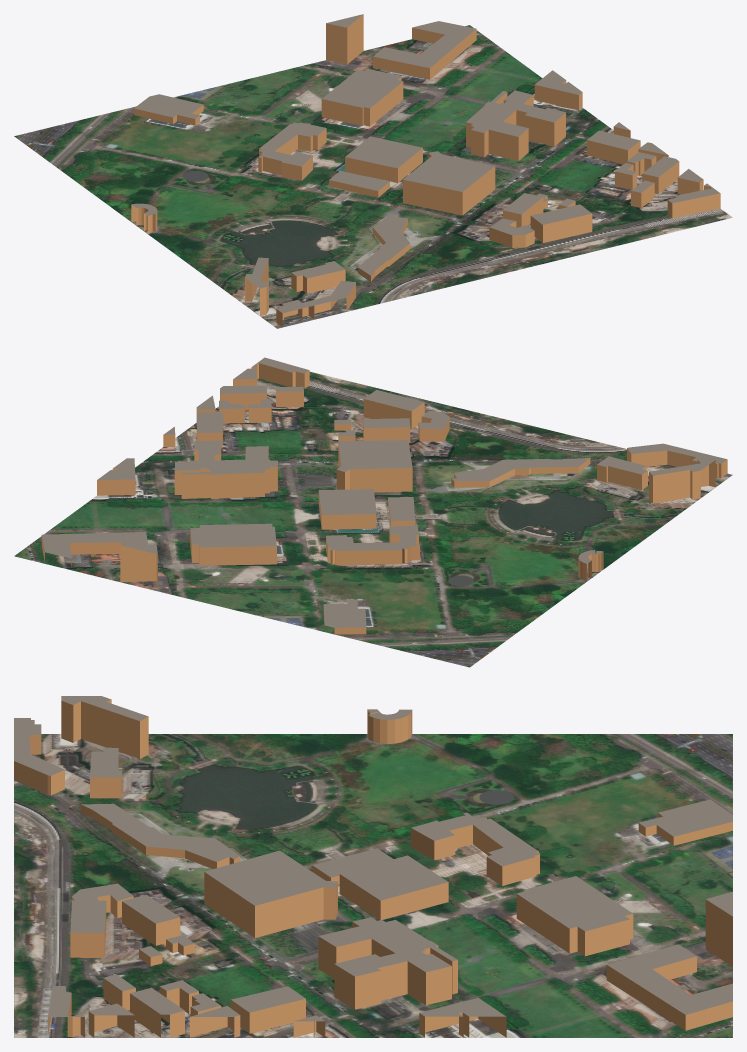
The model's file is NTPU.glb.
3 renders of one model, top to bottom at view 1: azimuth 30°, elevation 25°; view 2: azimuth 150°, elevation 25°; view 3: azimuth 270°, elevation 25°, orthographic. The views are drawn at different scales.
Visible parts, largest first — view 1: OSM_BaseMap, Sionna_Building_0000, Sionna_Building_0011, Sionna_Building_0006, Sionna_Building_0005, Sionna_Building_0007, Sionna_Building_0001, Sionna_Building_0026, Sionna_Building_0021, Sionna_Building_0010, Sionna_Building_0003, Sionna_Building_0029 (+11 smaller); view 2: OSM_BaseMap, Sionna_Building_0000, Sionna_Building_0011, Sionna_Building_0006, Sionna_Building_0007, Sionna_Building_0001, Sionna_Building_0026, Sionna_Building_0013, Sionna_Building_0005, Sionna_Building_0021, Sionna_Building_0010, Sionna_Building_0003 (+12 smaller); view 3: OSM_BaseMap, Sionna_Building_0000, Sionna_Building_0011, Sionna_Building_0006, Sionna_Building_0005, Sionna_Building_0007, Sionna_Building_0001, Sionna_Building_0013, Sionna_Building_0026, Sionna_Building_0003, Sionna_Building_0029, Sionna_Building_0021 (+16 smaller).
Part boxes in pixels (box(x1,y1,x2,y2)): OSM_BaseMap: box(14, 25, 732, 328); Sionna_Building_0000: box(466, 90, 565, 160); Sionna_Building_0011: box(403, 151, 495, 215); Sionna_Building_0006: box(321, 68, 403, 126); Sionna_Building_0005: box(373, 21, 476, 79); Sionna_Building_0007: box(258, 122, 326, 180); Sionna_Building_0001: box(345, 136, 422, 182); Sionna_Building_0026: box(358, 214, 410, 281); Sionna_Building_0021: box(530, 204, 592, 242); Sionna_Building_0010: box(326, 14, 363, 64); Sionna_Building_0003: box(134, 94, 203, 125); Sionna_Building_0029: box(587, 130, 640, 164); OSM_BaseMap: box(14, 371, 732, 667); Sionna_Building_0000: box(174, 440, 277, 498); Sionna_Building_0011: box(336, 440, 412, 492); Sionna_Building_0006: box(190, 523, 276, 565); Sionna_Building_0007: box(326, 525, 419, 565); Sionna_Building_0001: box(318, 489, 376, 529); Sionna_Building_0026: box(451, 457, 590, 487); Sionna_Building_0013: box(649, 458, 715, 503); Sionna_Building_0005: box(41, 532, 148, 567); Sionna_Building_0021: box(363, 390, 424, 429); Sionna_Building_0010: box(120, 544, 157, 590); Sionna_Building_0003: box(323, 600, 366, 634); OSM_BaseMap: box(14, 734, 732, 1037); Sionna_Building_0000: box(318, 917, 457, 1009); Sionna_Building_0011: box(204, 850, 337, 937); Sionna_Building_0006: box(516, 876, 633, 956); Sionna_Building_0005: box(606, 944, 732, 1030); Sionna_Building_0007: box(411, 812, 539, 885); Sionna_Building_0001: box(339, 855, 448, 920); Sionna_Building_0013: box(61, 696, 148, 758); Sionna_Building_0026: box(80, 803, 239, 868); Sionna_Building_0003: box(638, 799, 732, 845); Sionna_Building_0029: box(230, 986, 305, 1033); Sionna_Building_0021: box(70, 900, 106, 957).
Bounding box in the file's own units: 512 × 39.59 × 512.
Materials: 4 (1 with a texture image).
